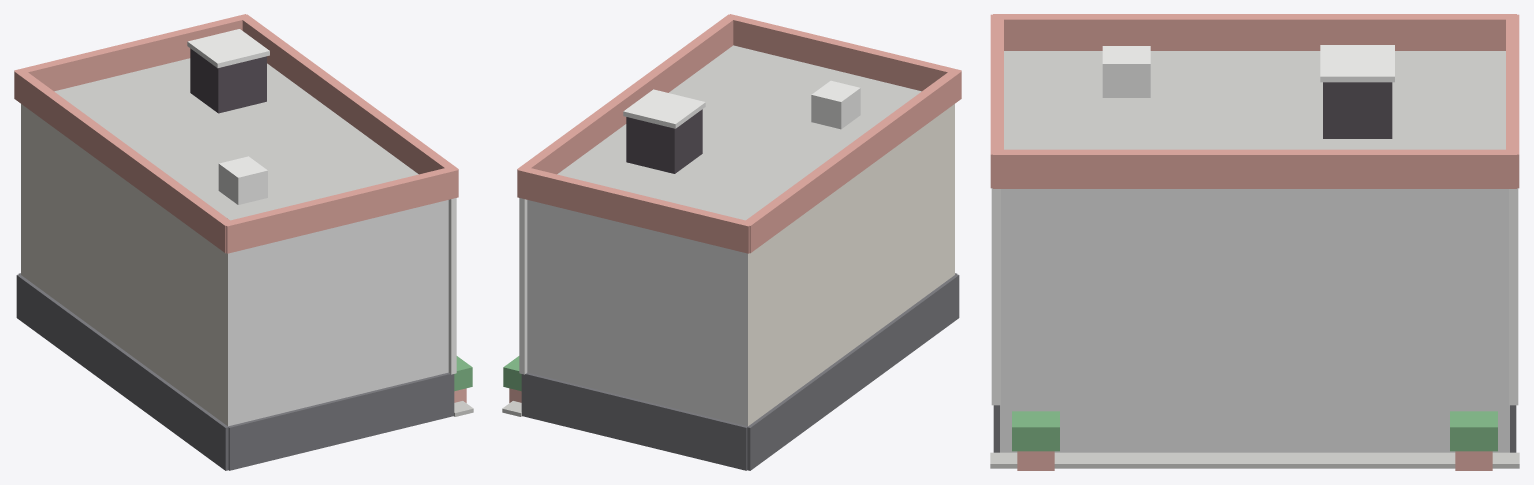
The model's file is FShop_Wide_Flat.fbx.
3 views of the same model, side by side, from view 1: azimuth 30°, elevation 25°; view 2: azimuth 150°, elevation 25°; view 3: azimuth 270°, elevation 25° (orthographic). The views are drawn at different scales.
Visible parts, largest first — view 1: FShop_Wide_Flat; view 2: FShop_Wide_Flat; view 3: FShop_Wide_Flat.
Boxes of the visible parts, <box> form: FShop_Wide_Flat: <box>14,14,473,470</box>; FShop_Wide_Flat: <box>502,14,961,470</box>; FShop_Wide_Flat: <box>990,14,1519,470</box>.
Bounding box in the file's own units: 6.82 × 7.21 × 9.9.
